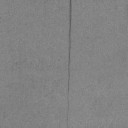surface scratch: (68, 0, 72, 92)
